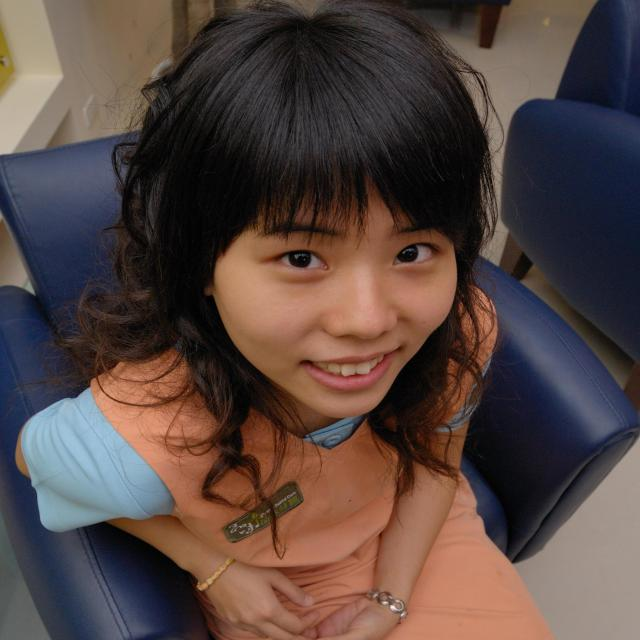no-glass: (273, 243, 441, 280)
